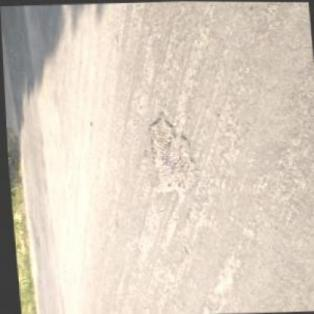Hueco: (143, 108, 198, 203)
